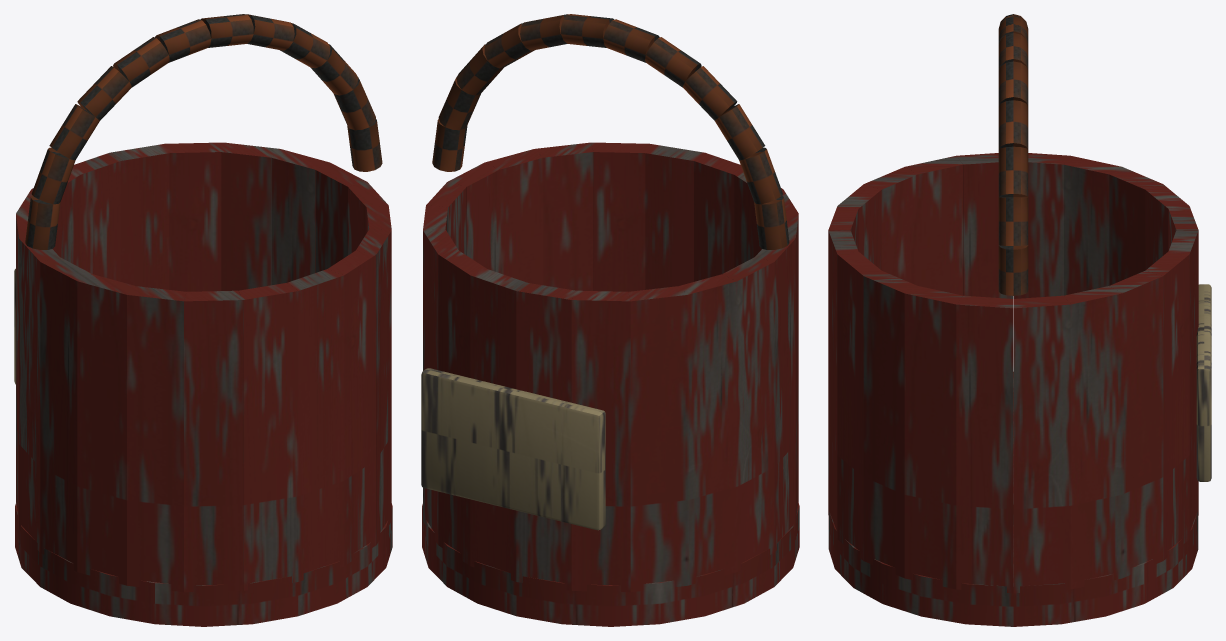
The model's file is SM_PaintCan_Open_9d3c94ba77.fbx.
3 renders of one model, left to right at view 1: azimuth 30°, elevation 25°; view 2: azimuth 150°, elevation 25°; view 3: azimuth 270°, elevation 25°, orthographic. The views are drawn at different scales.
Visible parts, largest first — view 1: SM_PaintCan_Open_9d3c94ba77; view 2: SM_PaintCan_Open_9d3c94ba77; view 3: SM_PaintCan_Open_9d3c94ba77.
Boxes of the visible parts, x1=… form: SM_PaintCan_Open_9d3c94ba77: x1=14, y1=14, x2=392, y2=626; SM_PaintCan_Open_9d3c94ba77: x1=421, y1=14, x2=799, y2=626; SM_PaintCan_Open_9d3c94ba77: x1=828, y1=14, x2=1211, y2=626.
Size of what is drawn, in the model's own units: 21.58 by 20.7 by 30.79.
Materials: 3 (3 with a texture image).
